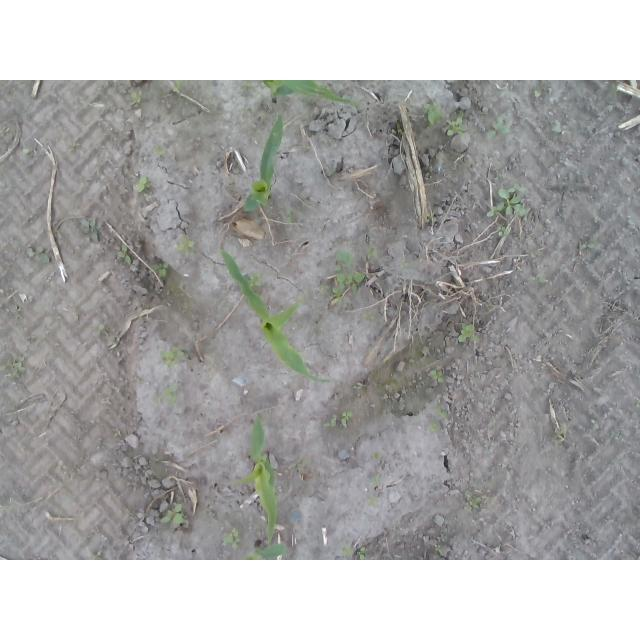Maize: (218, 246, 341, 386), (238, 412, 278, 542), (245, 112, 284, 212), (259, 80, 360, 112), (244, 544, 289, 561)
Weeds: (319, 248, 367, 304), (486, 183, 530, 218), (321, 411, 352, 433), (160, 346, 185, 371), (160, 503, 187, 526), (424, 100, 445, 129), (485, 115, 511, 138), (155, 383, 178, 408), (80, 218, 101, 243), (223, 525, 242, 551), (458, 322, 481, 342), (26, 247, 50, 266), (445, 116, 466, 136), (463, 491, 481, 514), (175, 234, 194, 255), (129, 87, 151, 105), (7, 359, 26, 378), (133, 175, 151, 194), (116, 244, 132, 264), (150, 264, 168, 281), (247, 270, 264, 288), (428, 369, 444, 384), (580, 240, 598, 252), (529, 273, 546, 285), (425, 419, 439, 433), (339, 543, 353, 557), (551, 118, 563, 134), (432, 405, 448, 416), (608, 431, 624, 442), (368, 495, 381, 508), (360, 311, 376, 321), (591, 416, 601, 432), (153, 144, 165, 157), (96, 320, 105, 337), (371, 472, 381, 486), (496, 226, 508, 237), (368, 245, 377, 259), (425, 213, 436, 224), (358, 546, 366, 560), (433, 543, 444, 553), (175, 81, 182, 96), (289, 463, 302, 471), (400, 258, 408, 270), (288, 208, 294, 224), (243, 81, 254, 88)
